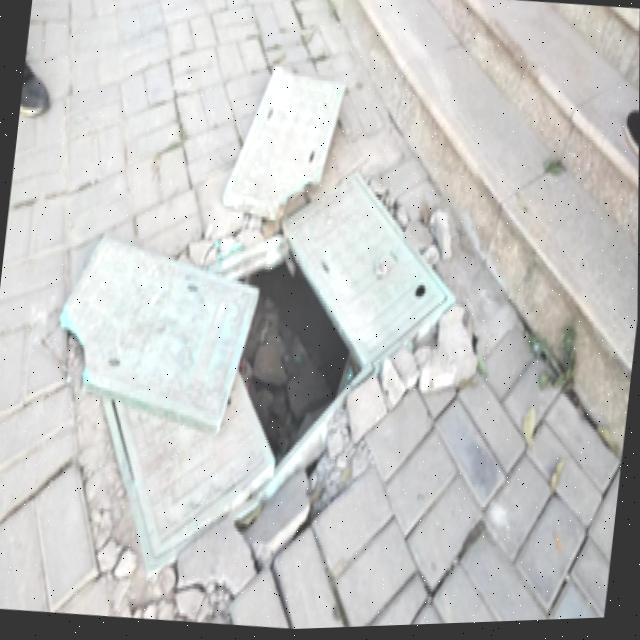manhole: (68, 139, 467, 560)
